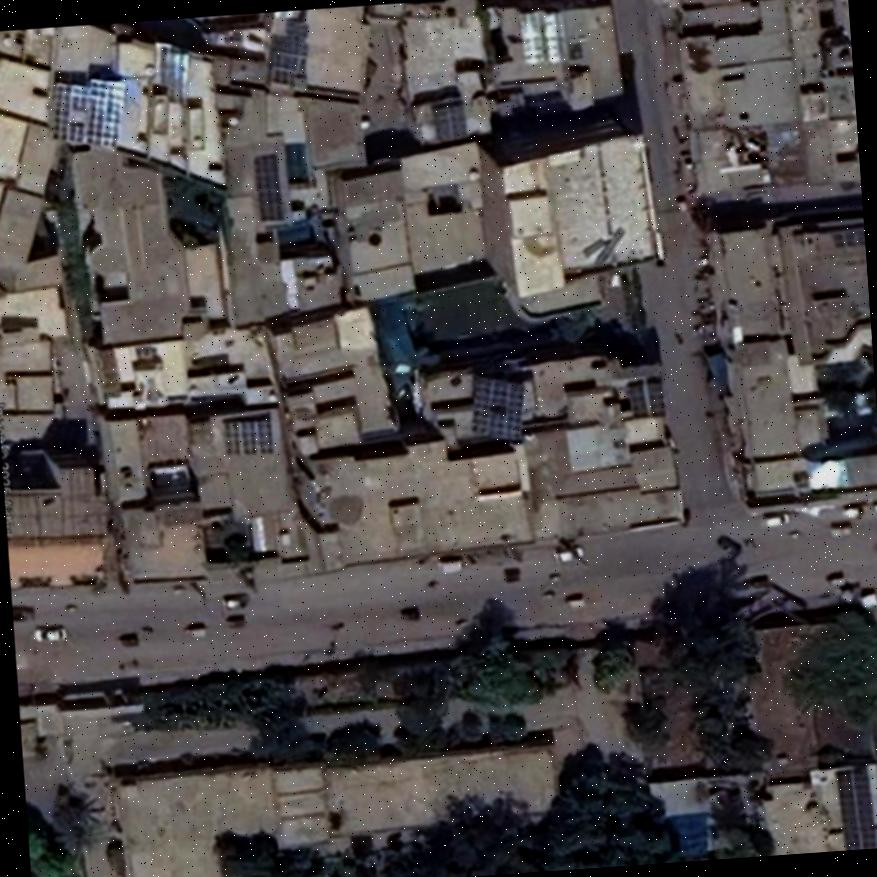Solarpanel: (49, 70, 126, 147), (472, 372, 523, 441), (836, 772, 877, 849), (255, 153, 282, 218), (222, 420, 271, 454), (434, 103, 465, 141), (631, 379, 662, 416)
